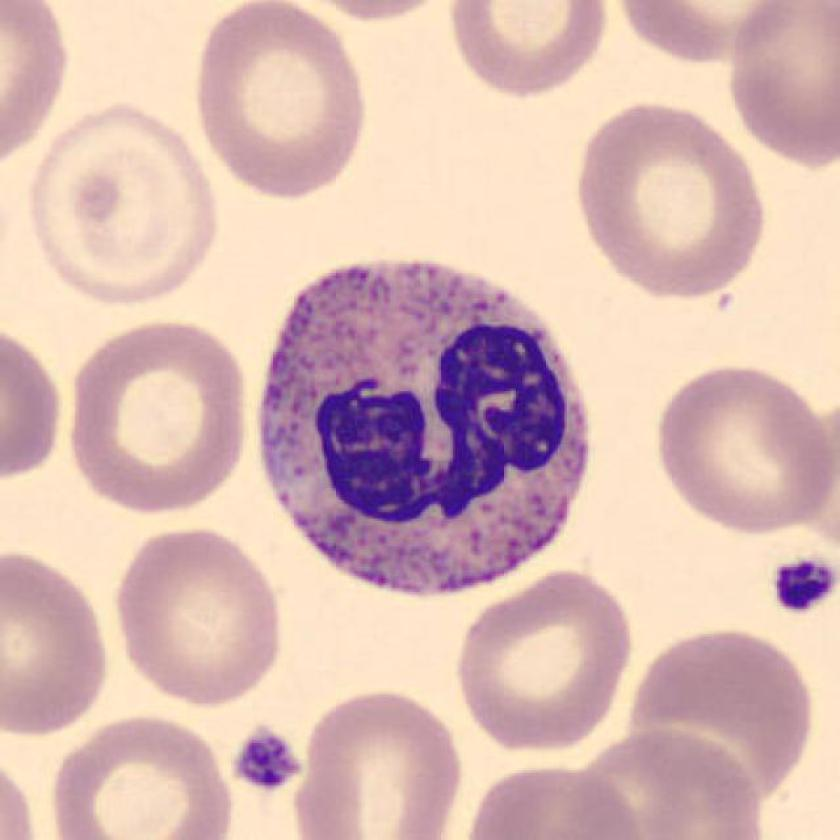neutrophil: (256, 260, 589, 594)
